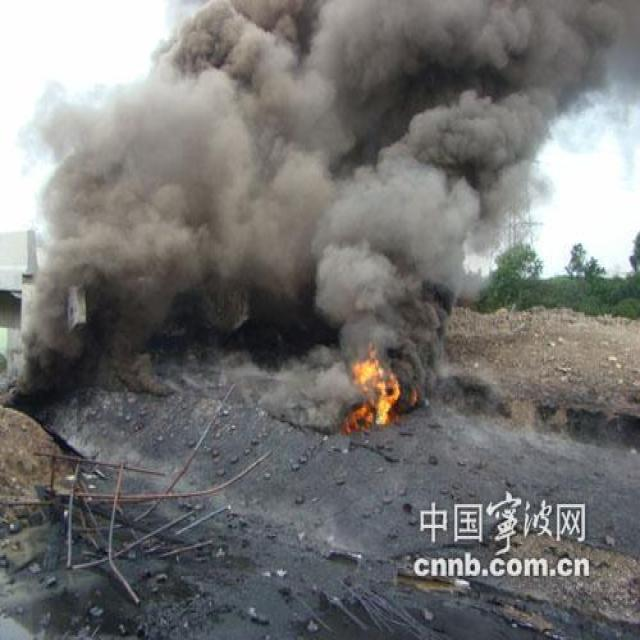fire: (343, 348, 403, 430)
smoke: (13, 3, 638, 391)
